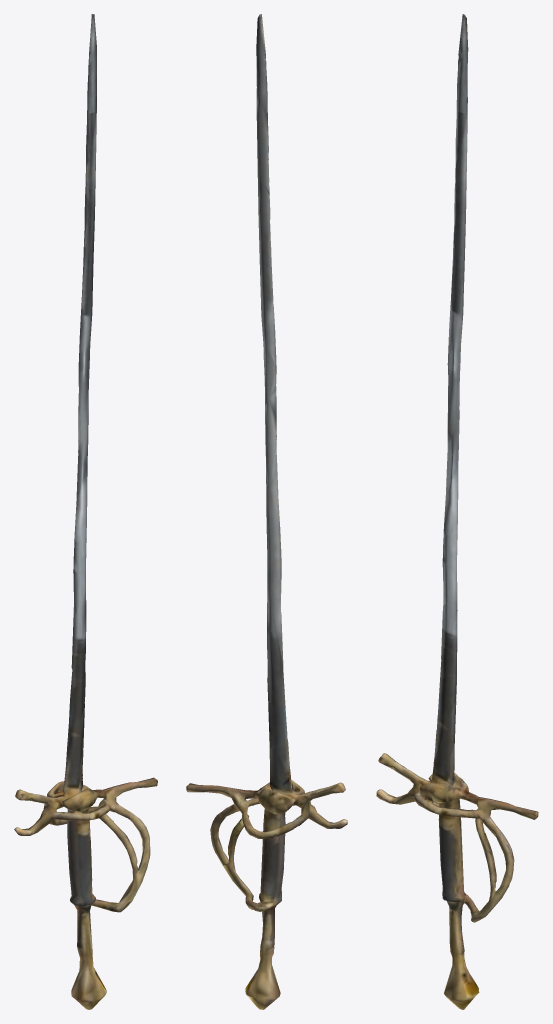
Rendered from 1241_rapier.glb.
3 views of the same model, side by side, from view 1: azimuth 30°, elevation 25°; view 2: azimuth 150°, elevation 25°; view 3: azimuth 330°, elevation 25° (orthographic).
Visible parts, largest first — view 1: Model; view 2: Model; view 3: Model.
Part boxes in pixels (x1,y1,x2,y2): Model: (14, 14, 157, 1009); Model: (186, 14, 347, 1009); Model: (376, 14, 538, 1009).
Size of the model in its own units: 0.1582 by 1 by 0.0507.
1 material, 1 textured.
